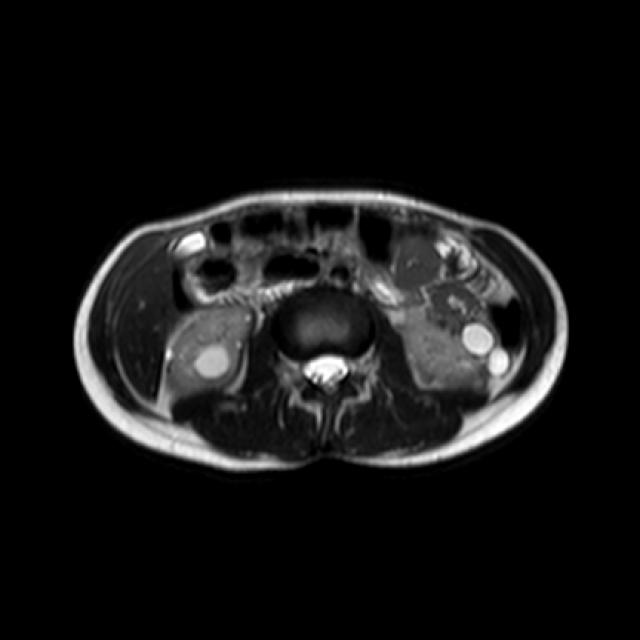sag: (167, 303, 255, 395)
sol: (397, 305, 511, 394)
